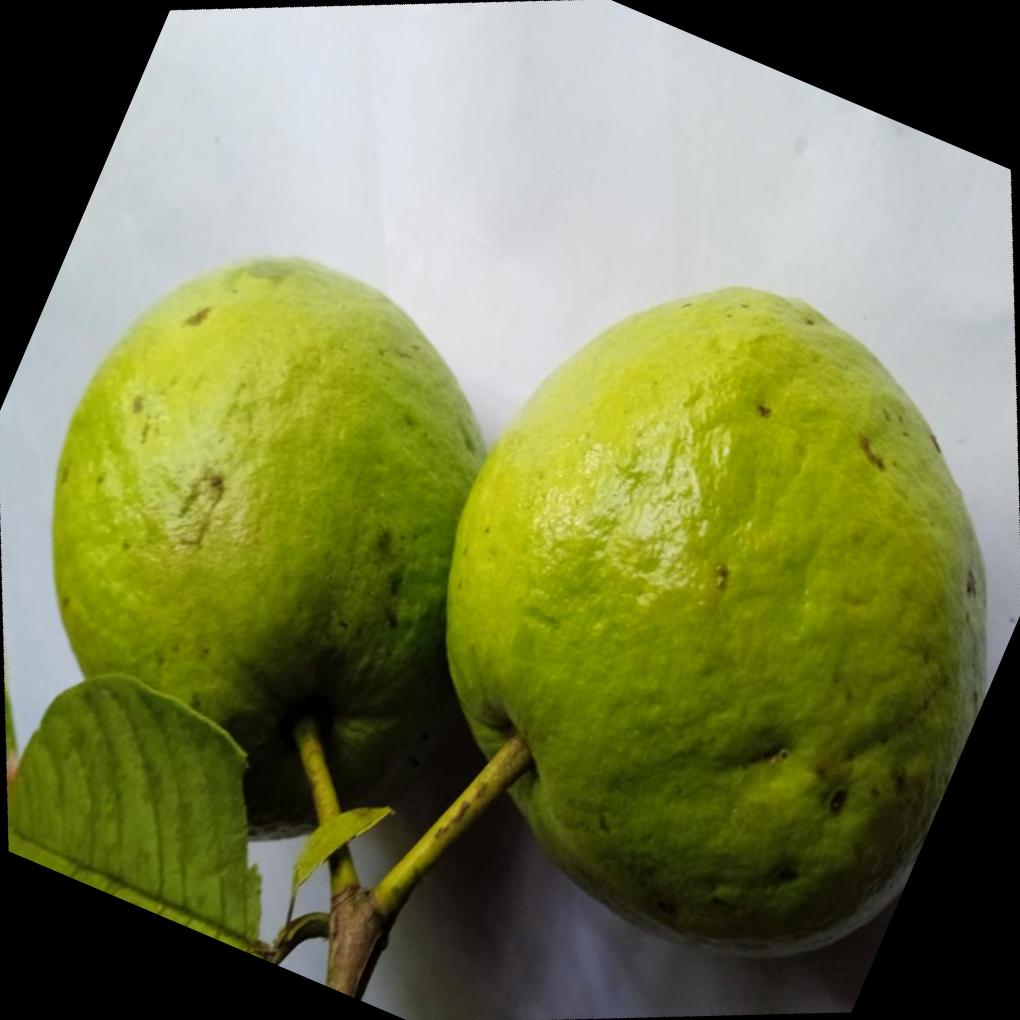FreshGuava: (6, 248, 992, 997)
